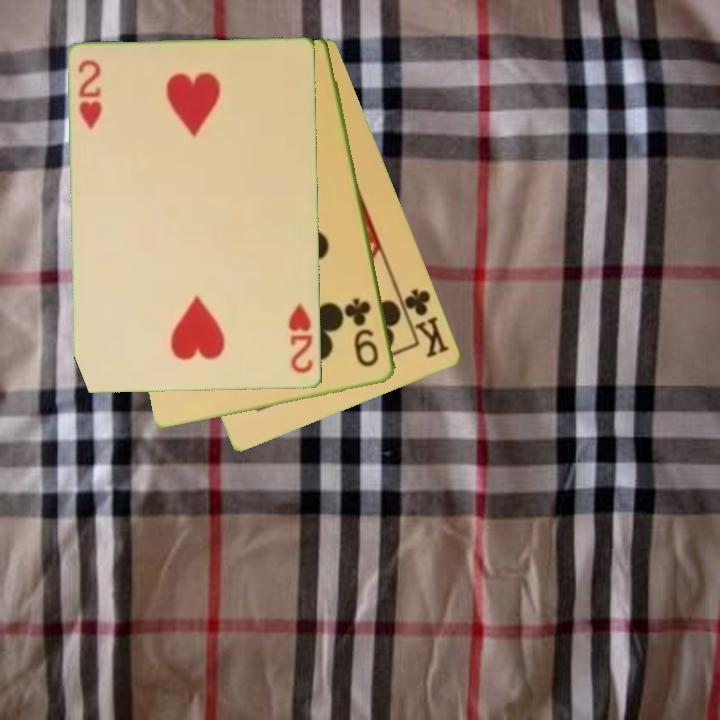2h: (285, 299, 316, 377), (75, 57, 105, 132)
9c: (344, 294, 382, 370)
Kc: (395, 285, 453, 361)
